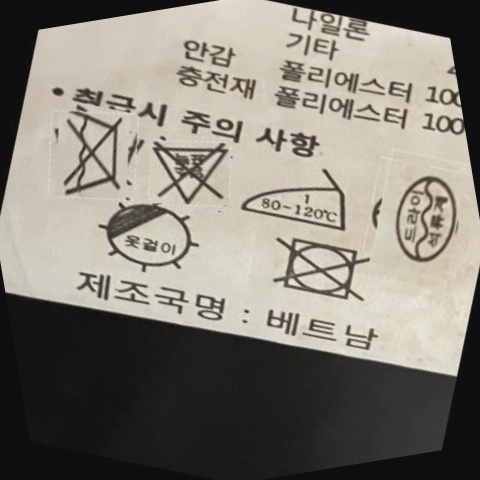DN_tumble_dry: (268, 226, 373, 315)
DN_wash: (48, 106, 142, 198)
dry_clean_petrol_only: (381, 168, 471, 269)
iron_low: (232, 159, 361, 248)
line_dry_in_shade: (98, 192, 207, 281)
non_chlorine_bleach: (149, 135, 239, 210)
